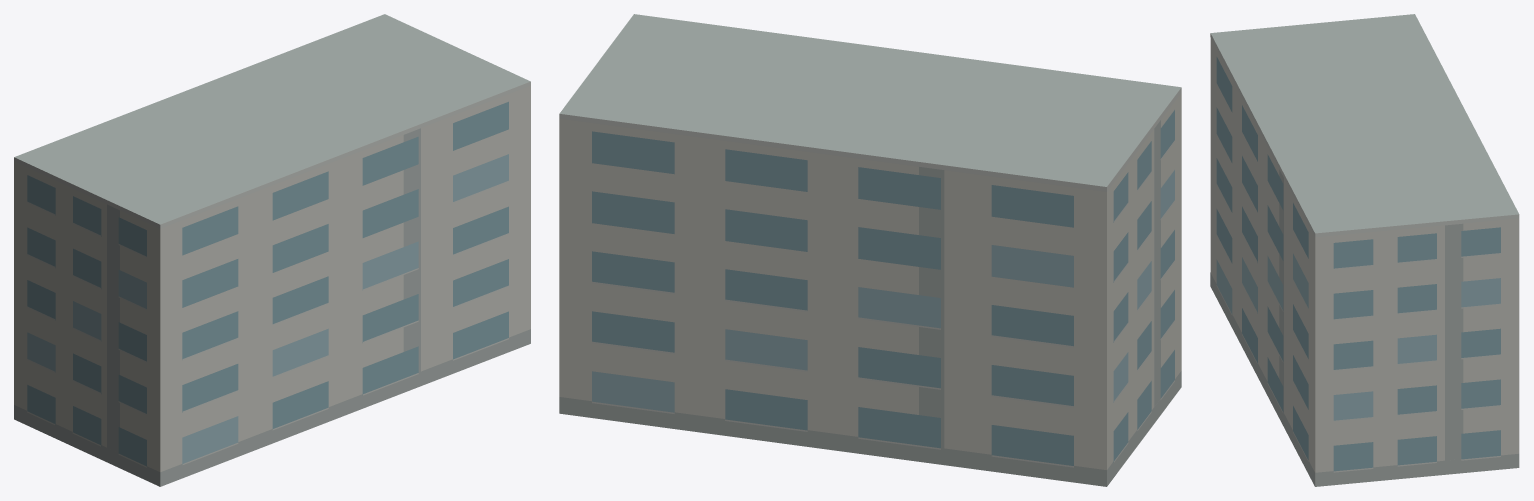
File: residential-1141d04e-03c5-4a9b-b95f-866bbbcce612.glb
3 renders of one model, left to right at view 1: azimuth 30°, elevation 25°; view 2: azimuth 150°, elevation 25°; view 3: azimuth 270°, elevation 25°, orthographic. The views are drawn at different scales.
Visible parts, largest first — view 1: residential-1141d04e-03c5-4a9b-b95f-866bbbcce612.tmp; view 2: residential-1141d04e-03c5-4a9b-b95f-866bbbcce612.tmp; view 3: residential-1141d04e-03c5-4a9b-b95f-866bbbcce612.tmp.
Boxes of the visible parts, x1,y1,x2,y2 form: residential-1141d04e-03c5-4a9b-b95f-866bbbcce612.tmp: (14, 14, 530, 486); residential-1141d04e-03c5-4a9b-b95f-866bbbcce612.tmp: (559, 14, 1181, 486); residential-1141d04e-03c5-4a9b-b95f-866bbbcce612.tmp: (1210, 14, 1519, 486).
Size of the model in its own units: 27.86 by 15 by 16.58.
